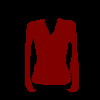maglia: (24, 17, 79, 92)
